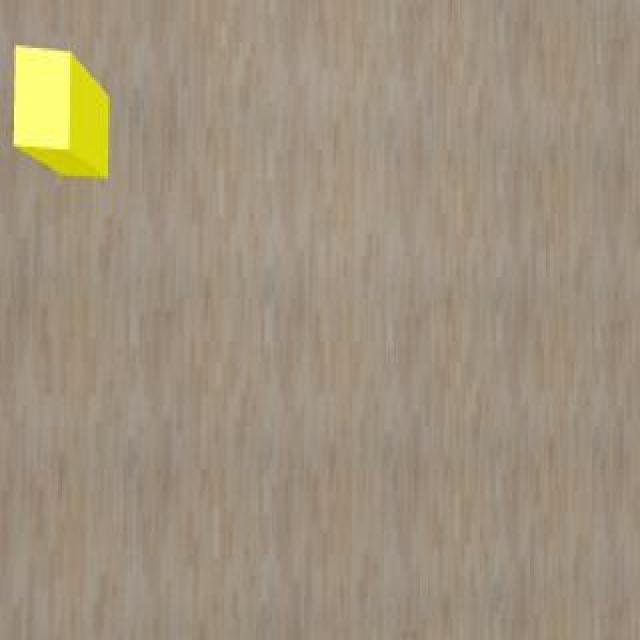cube-cAb5: (13, 46, 110, 179)
